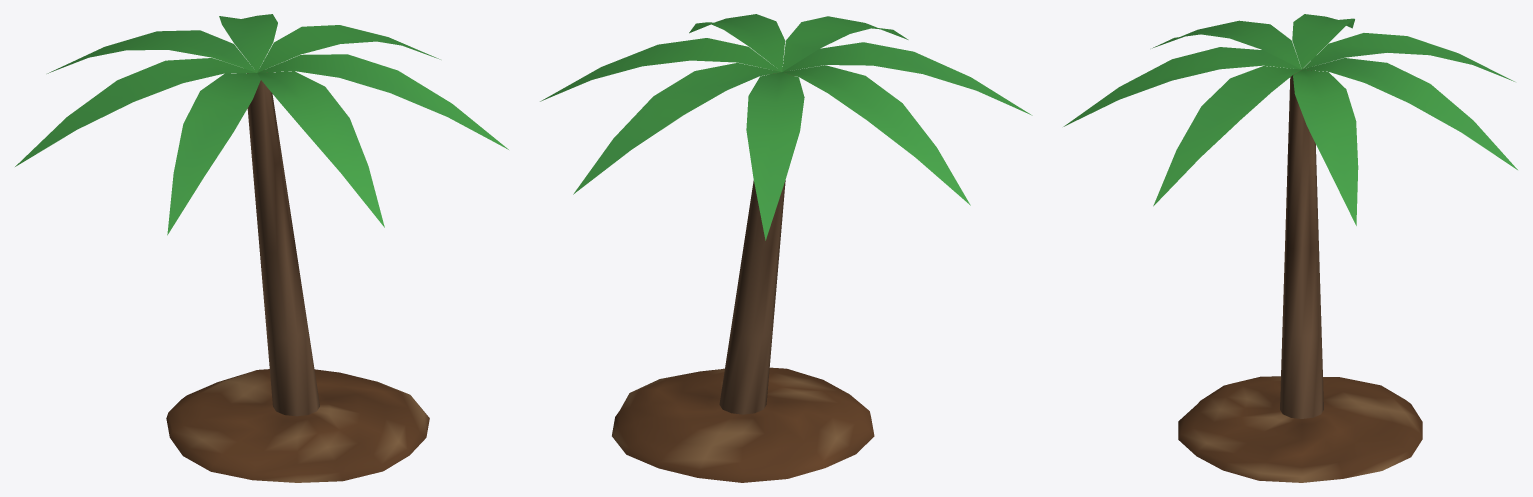
Rendered from plant-coconut-2.gltf.
3 views of the same model, side by side, from view 1: azimuth 30°, elevation 25°; view 2: azimuth 150°, elevation 25°; view 3: azimuth 270°, elevation 25° (orthographic). The views are drawn at different scales.
Bounding box in the file's own units: 2.42 × 2.02 × 2.36.
